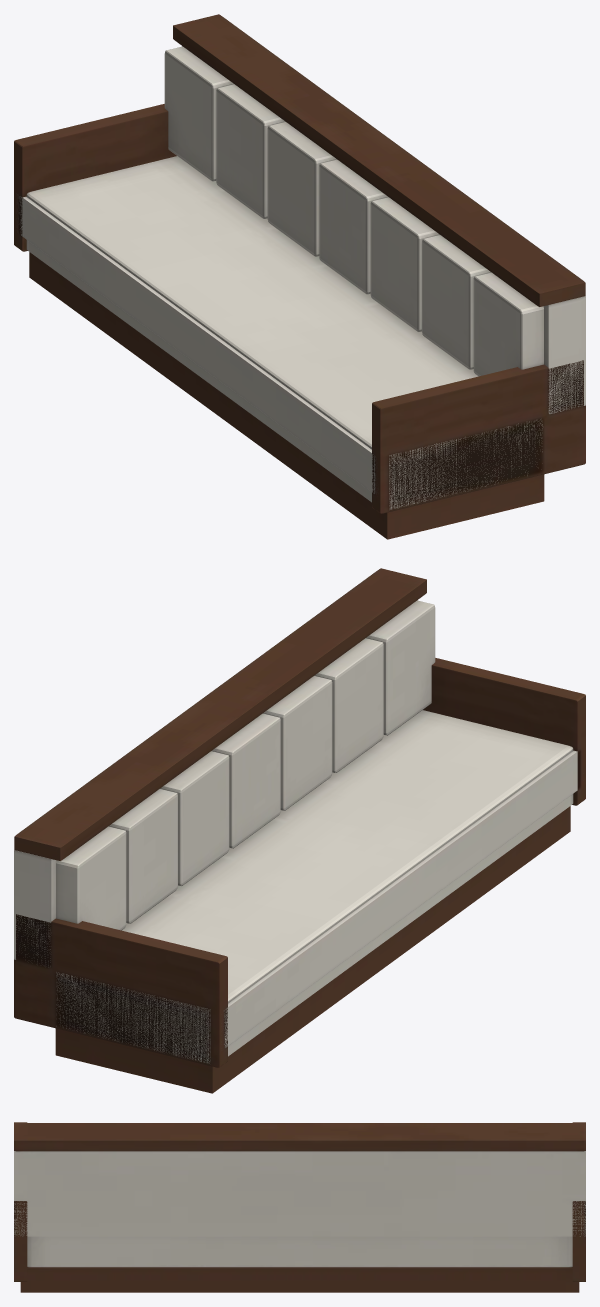
Rendered from breakfast_banquette.glb.
The picture shows the model from 3 angles, top to bottom: view 1: azimuth 30°, elevation 25°; view 2: azimuth 150°, elevation 25°; view 3: azimuth 270°, elevation 25°; orthographic projection. The views are drawn at different scales.
Visible parts, largest first — view 1: breakfast_banquette; view 2: breakfast_banquette; view 3: breakfast_banquette.
Part boxes in pixels (x1,y1,x2,y2): breakfast_banquette: (14,14,585,539); breakfast_banquette: (14,568,585,1093); breakfast_banquette: (14,1122,585,1292).
Bounding box in the file's own units: 1.1 × 1.09 × 3.4.
Materials: 1 (1 with a texture image).
